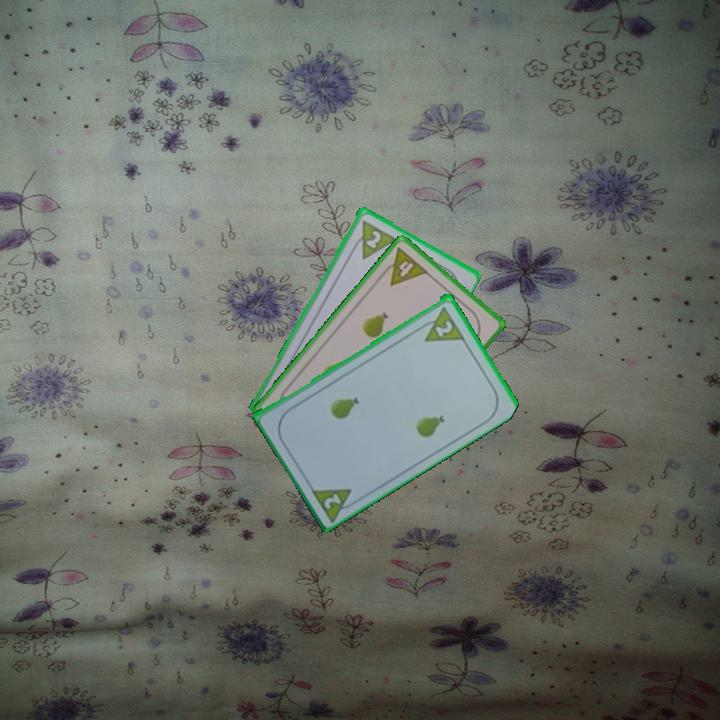2p: (347, 216, 398, 262), (431, 316, 456, 340), (320, 489, 344, 512)
4p: (376, 243, 431, 289)
